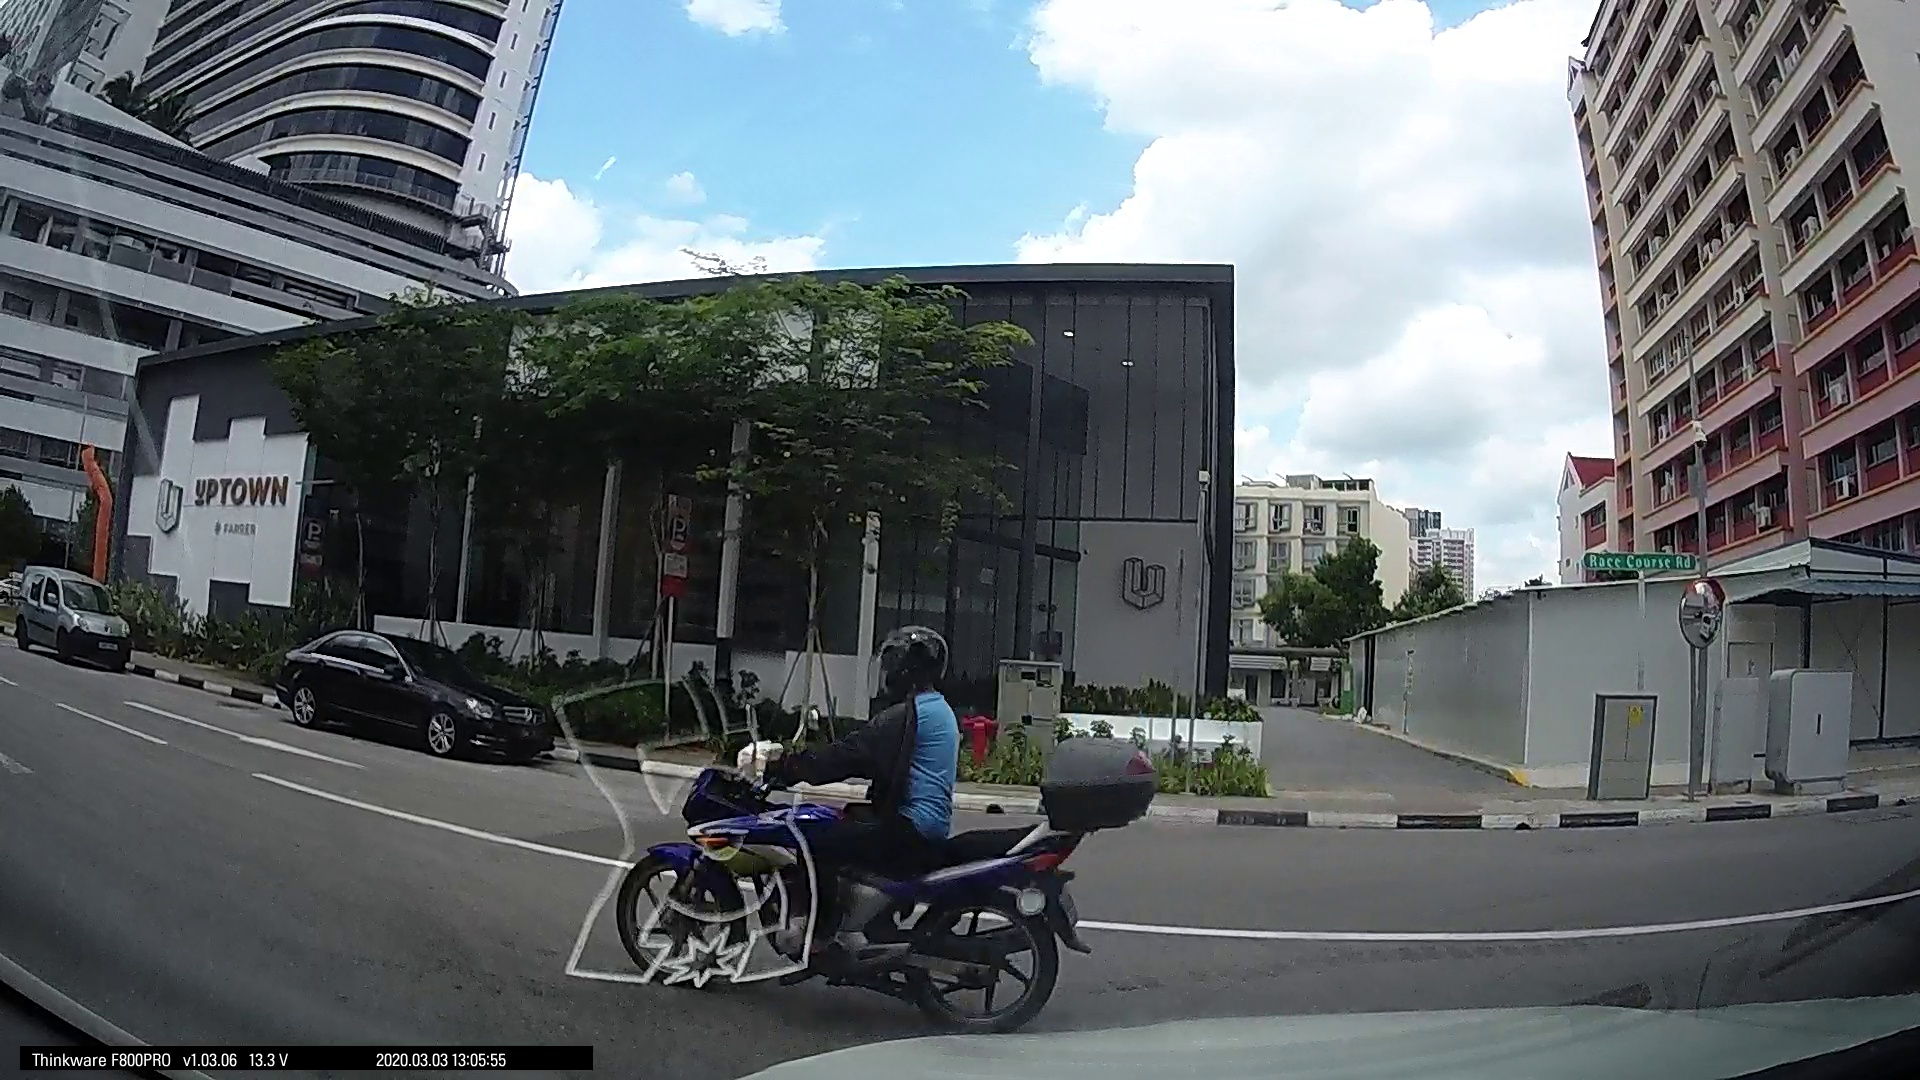Light Vehicle: (266, 621, 559, 764), (4, 556, 137, 673)
Motorcycle: (625, 688, 1127, 1027)
